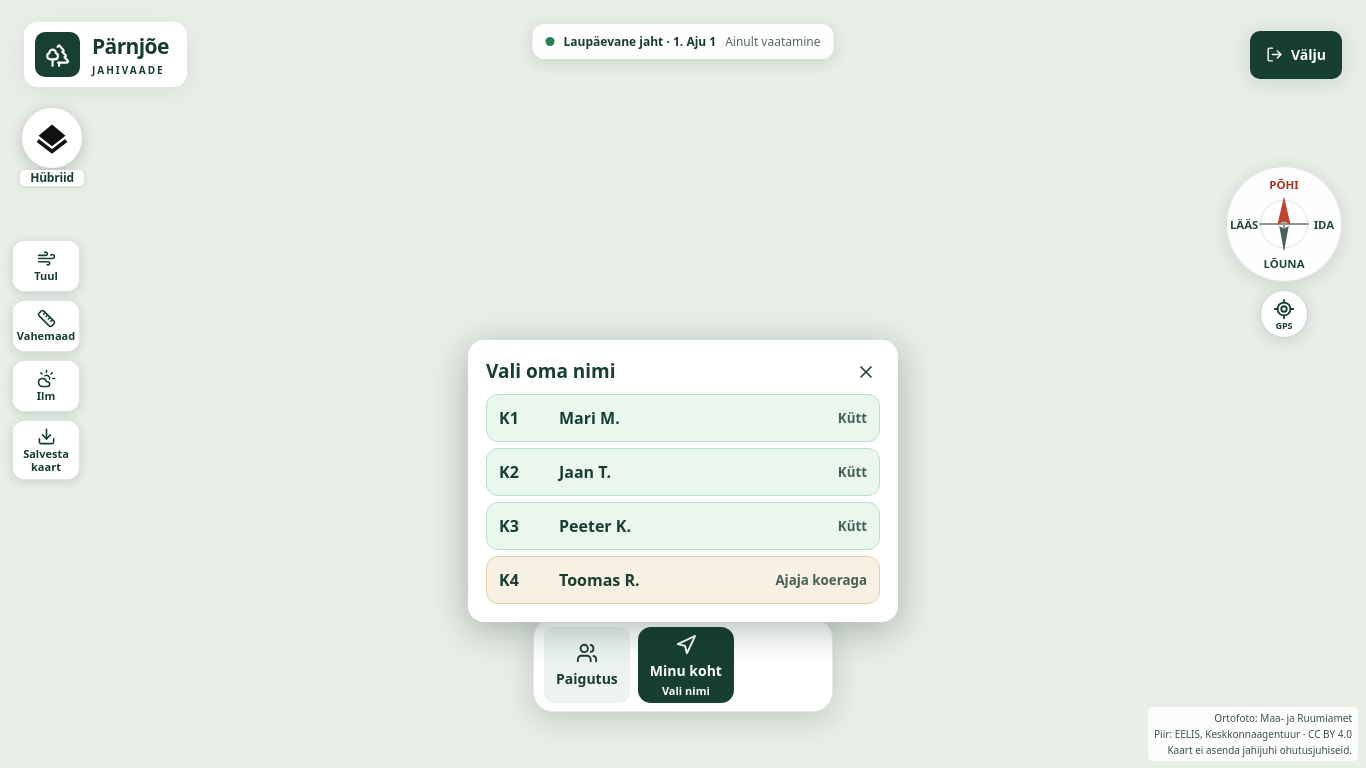
it: GuestHunt › without a saved choice it asks for the name, then shows left and right neighbours
The image size is (1366, 768).
Expected: the heading "Vali oma nimi" is shown, [486,358,616,384]
Click the button "K2 Jaan T. Kütt": (585, 472) [486,448,880,496]
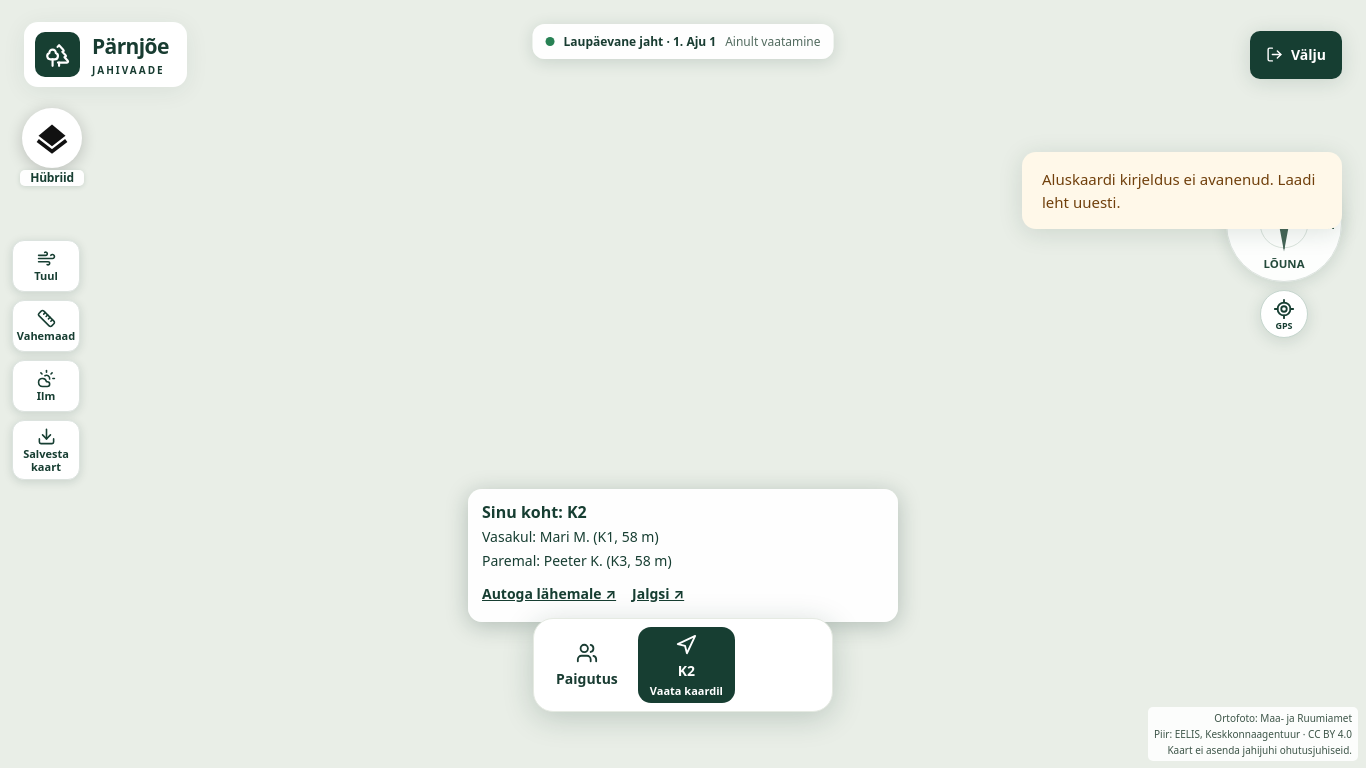
Result: the text "Sinu koht: K2" is shown at [482,501,587,523]
Result: the text "Vasakul: Mari M. (K1, 58 m)" is shown at [482,527,659,546]
Result: the text "Paremal: Peeter K. (K3, 58 m)" is shown at [482,551,672,570]
